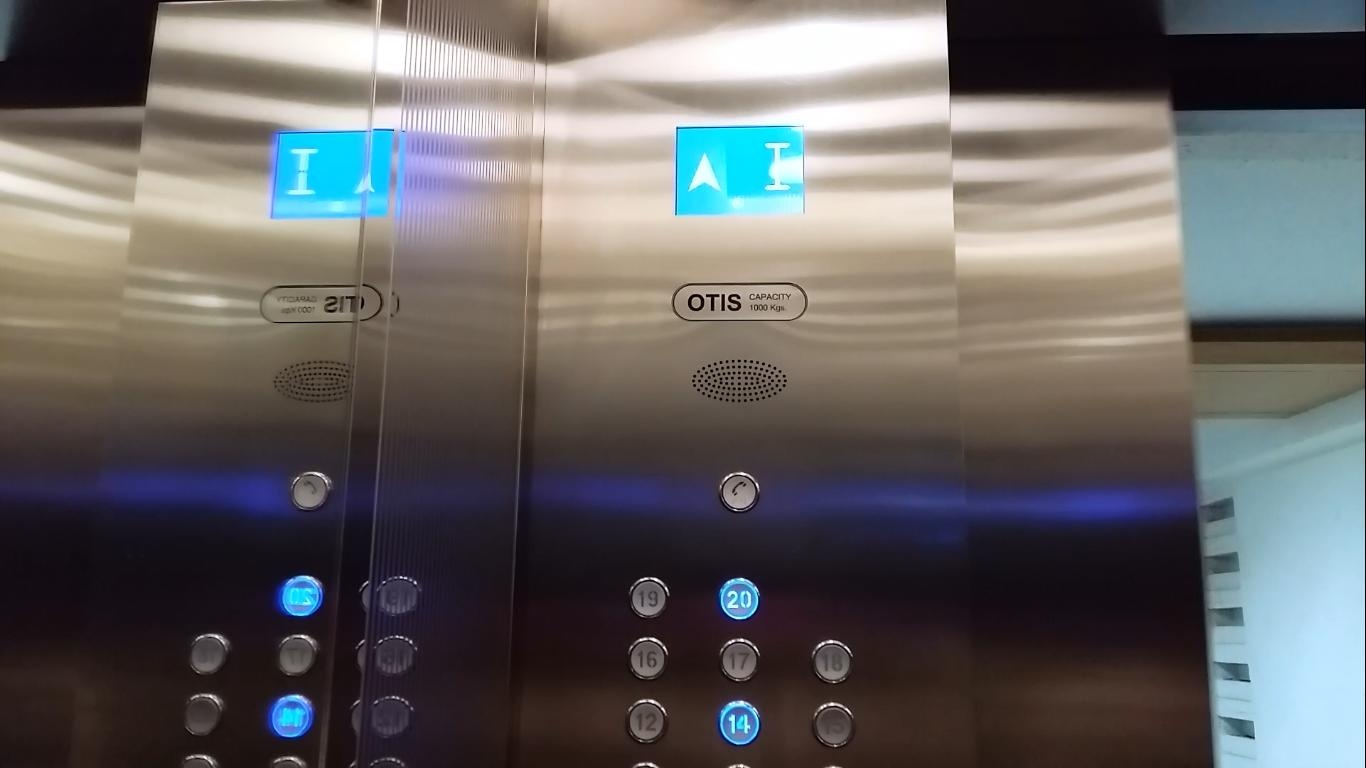12: (625, 698, 669, 745)
14: (716, 698, 763, 749)
15: (809, 700, 856, 748)
16: (625, 635, 670, 681)
17: (717, 636, 763, 683)
18: (809, 636, 854, 685)
19: (626, 573, 671, 620)
20: (717, 577, 761, 621)
call: (716, 468, 761, 514), (291, 470, 333, 513)
empty: (183, 633, 228, 676), (179, 691, 222, 736)
led: (265, 122, 403, 220), (673, 121, 811, 219)
unknown: (280, 572, 323, 619), (277, 631, 320, 677), (271, 694, 313, 740), (377, 576, 420, 615), (375, 636, 416, 675), (372, 697, 411, 736)
